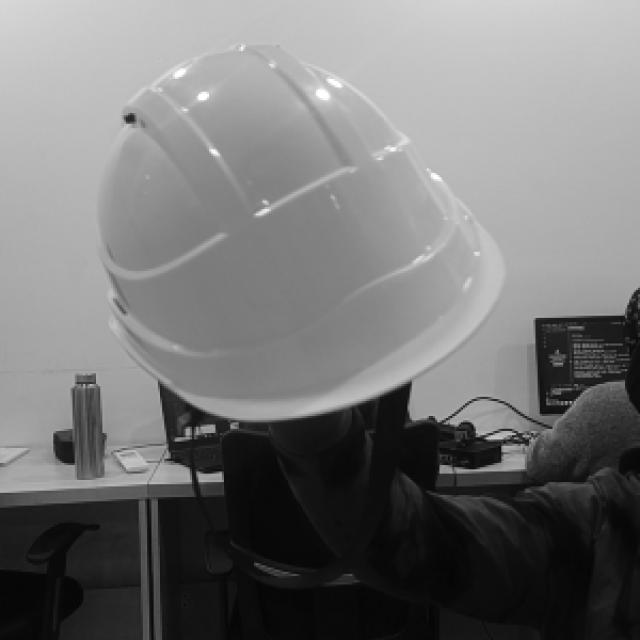safety_helmet: (99, 42, 507, 421)
